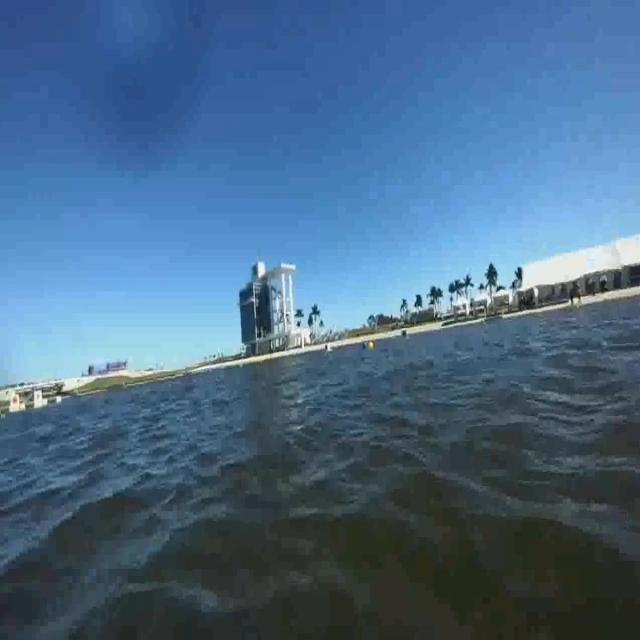yellow-buoy: (368, 342, 373, 352)
